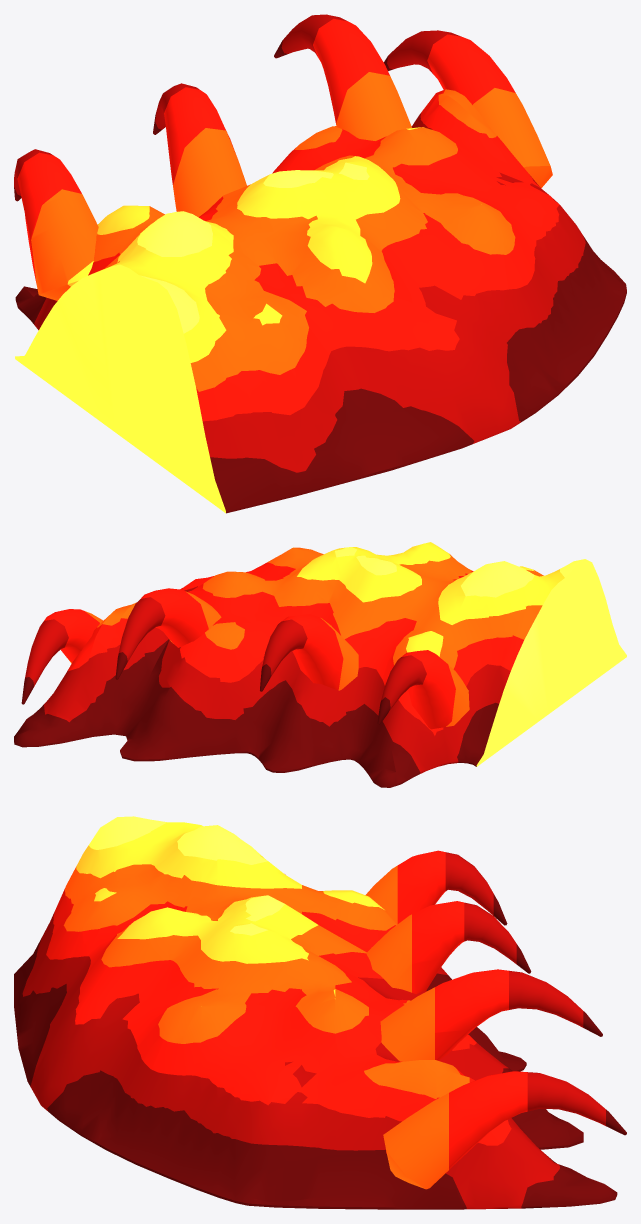
File: fire_bowl_right.glb
The picture shows the model from 3 angles, top to bottom: view 1: azimuth 30°, elevation 25°; view 2: azimuth 150°, elevation 25°; view 3: azimuth 270°, elevation 25°; orthographic projection. The views are drawn at different scales.
Parts seen in each view (by area): view 1: bowl, tongue4, tongue6, tongue7, tongue5; view 2: bowl, tongue5, tongue4, tongue6, tongue7; view 3: bowl, tongue7, tongue6, tongue5, tongue4.
Part boxes in pixels (<box>): bowl: <box>15,89,626,513</box>; tongue4: <box>14,149,98,300</box>; tongue6: <box>274,14,411,140</box>; tongue7: <box>384,30,552,187</box>; tongue5: <box>153,83,246,217</box>; bowl: <box>14,542,626,787</box>; tongue5: <box>260,614,358,691</box>; tongue4: <box>377,650,469,729</box>; tongue6: <box>115,588,221,679</box>; tongue7: <box>21,609,103,704</box>; bowl: <box>14,816,617,1209</box>; tongue7: <box>383,1071,626,1189</box>; tongue6: <box>380,969,602,1061</box>; tongue5: <box>366,901,531,993</box>; tongue4: <box>365,850,507,925</box>.
Size of the model in its own units: 23.34 by 8.12 by 25.55.
